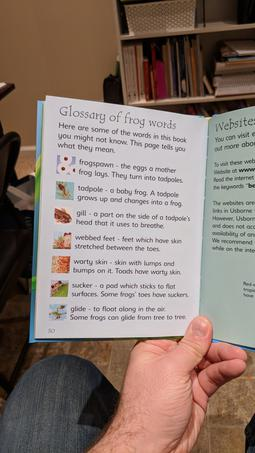text block: (54, 99, 201, 162), (71, 153, 187, 186), (71, 205, 194, 234), (63, 301, 192, 326), (73, 181, 186, 209), (68, 232, 190, 255), (69, 254, 185, 278), (209, 194, 255, 252), (66, 280, 190, 301), (211, 155, 255, 191), (210, 117, 255, 152), (242, 275, 255, 300)
